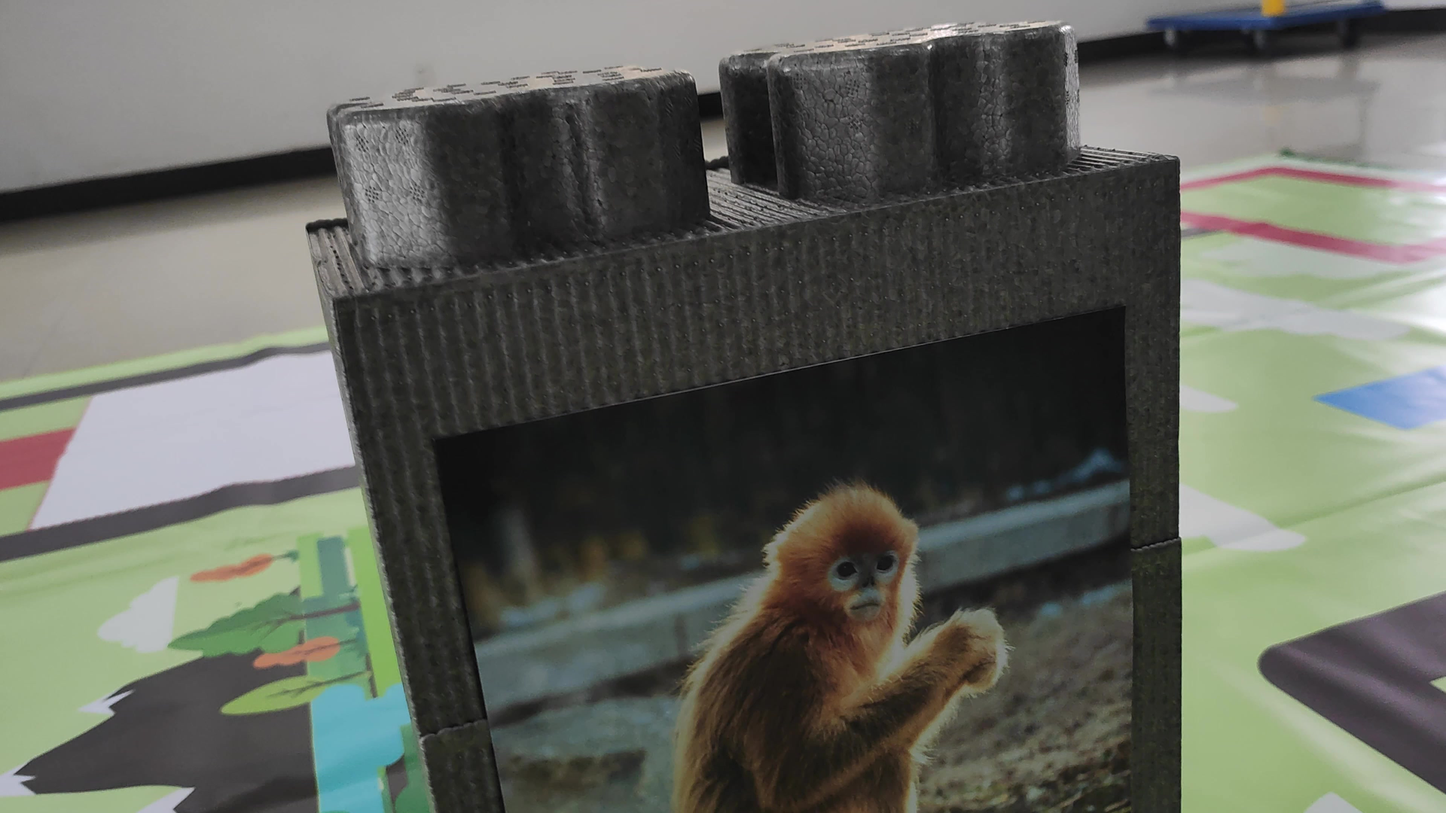monkey: (639, 431, 1048, 809)
